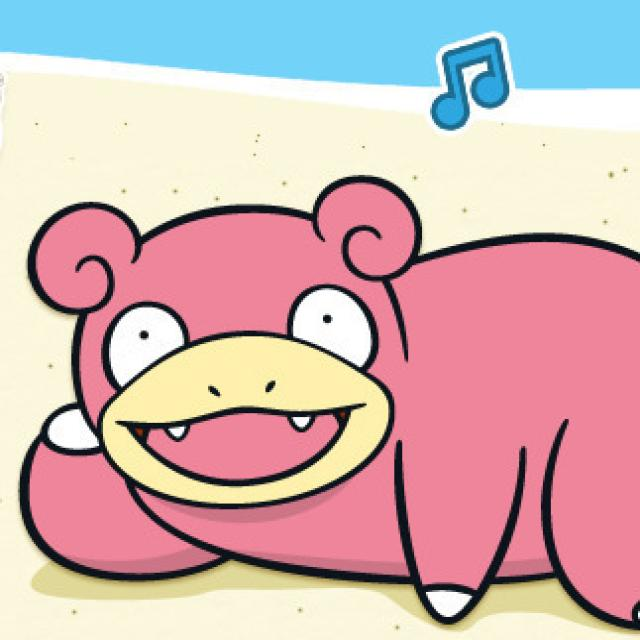Slowpoke: (21, 198, 640, 613)
